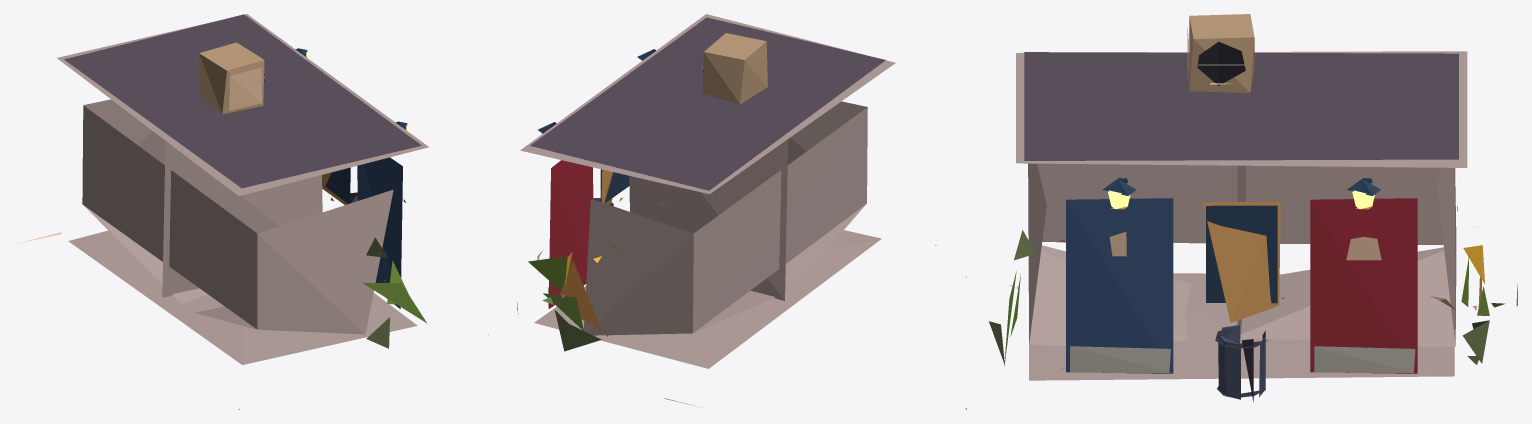
Rendered from bld.restroom-block.lod2.glb.
The picture shows the model from 3 angles, left to right: view 1: azimuth 30°, elevation 25°; view 2: azimuth 150°, elevation 25°; view 3: azimuth 270°, elevation 25°; orthographic projection. The views are drawn at different scales.
Parts seen in each view (by area): view 1: roof, object 20, interior, door_men, object 14, object 9, object 7; view 2: roof, object 20, interior, door_women, object 18, object 7, object 13, object 14, object 9; view 3: roof, object 20, door_men, door_women, interior, object 10, object 9, object 12, object 7, lamp_men, lamp_women, object 22.
Part boxes in pixels (x1,y1,x2,y2): roof: (57,14,428,195); object 20: (82,99,393,334); interior: (68,141,417,364); door_men: (357,157,402,308); object 14: (363,283,426,322); object 9: (325,167,350,203); object 7: (366,237,389,348); roof: (520,14,895,194); object 20: (584,101,867,335); interior: (534,139,881,368); door_women: (548,160,593,308); object 18: (560,260,601,330); object 7: (517,297,601,351); object 13: (528,256,569,290); object 14: (543,293,584,331); object 9: (600,169,629,202); roof: (1016,14,1467,167); object 20: (1028,163,1456,347); door_men: (1066,198,1173,373); door_women: (1310,198,1417,373); interior: (1029,165,1454,380); object 10: (1203,201,1280,322); object 9: (1206,205,1277,303); object 12: (1218,325,1265,399); object 7: (989,230,1505,364); lamp_men: (1102,178,1136,209); lamp_women: (1347,178,1380,209); object 22: (1062,331,1265,402).
Size of the model in its own units: 4.3 by 4.14 by 6.7.
